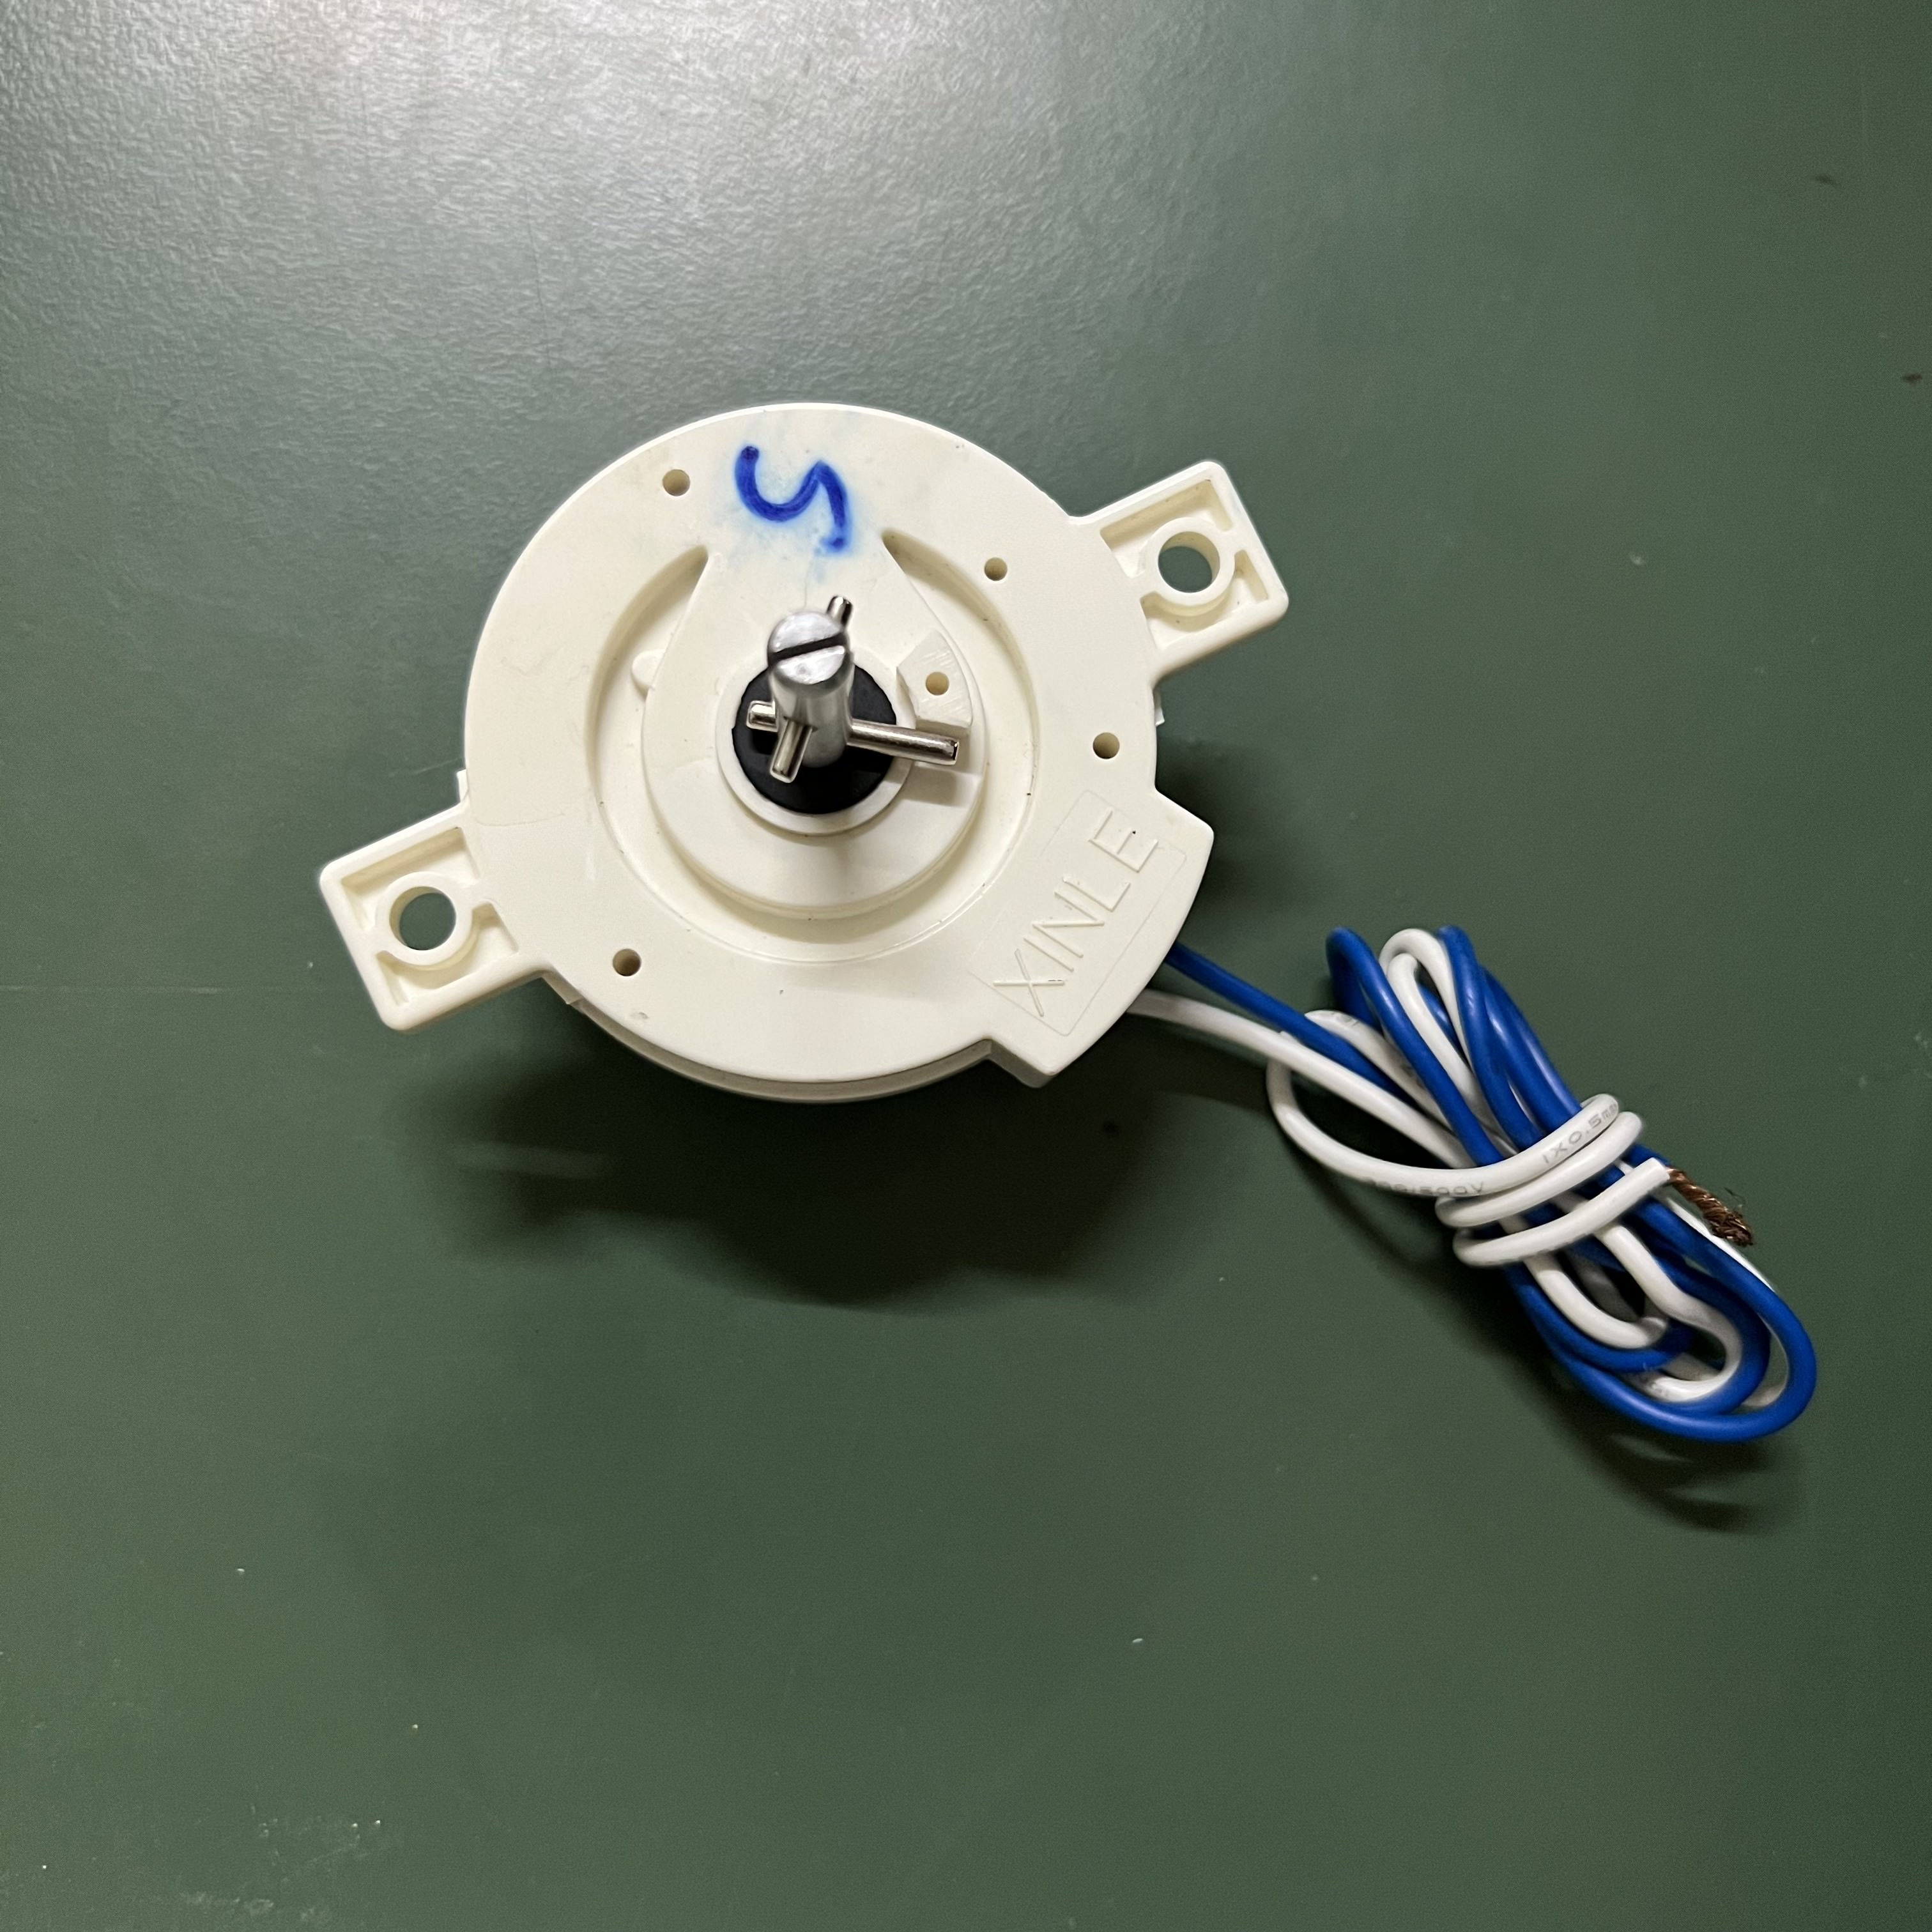circle_timer: (304, 396, 1831, 1479)
